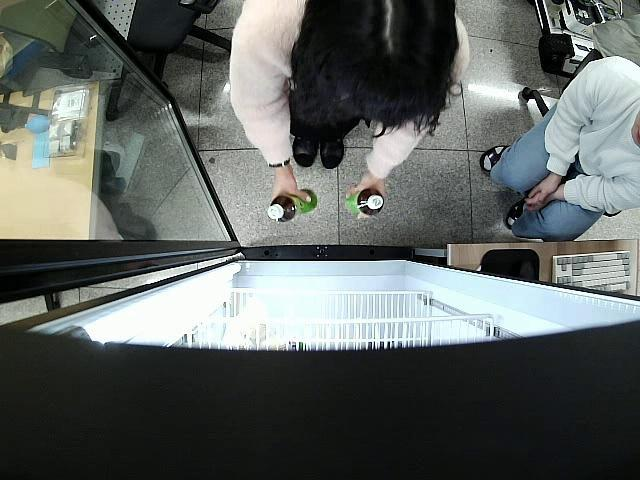19_17cha: (268, 189, 317, 222), (347, 188, 386, 219)
